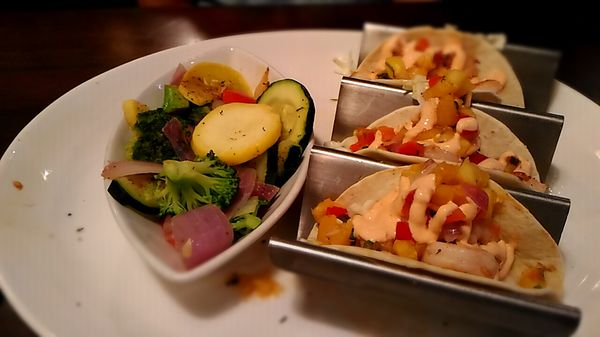curry: (109, 151, 238, 218), (160, 150, 239, 216), (129, 87, 187, 162), (129, 109, 183, 163)
sushi: (102, 48, 315, 283), (330, 27, 547, 181)
